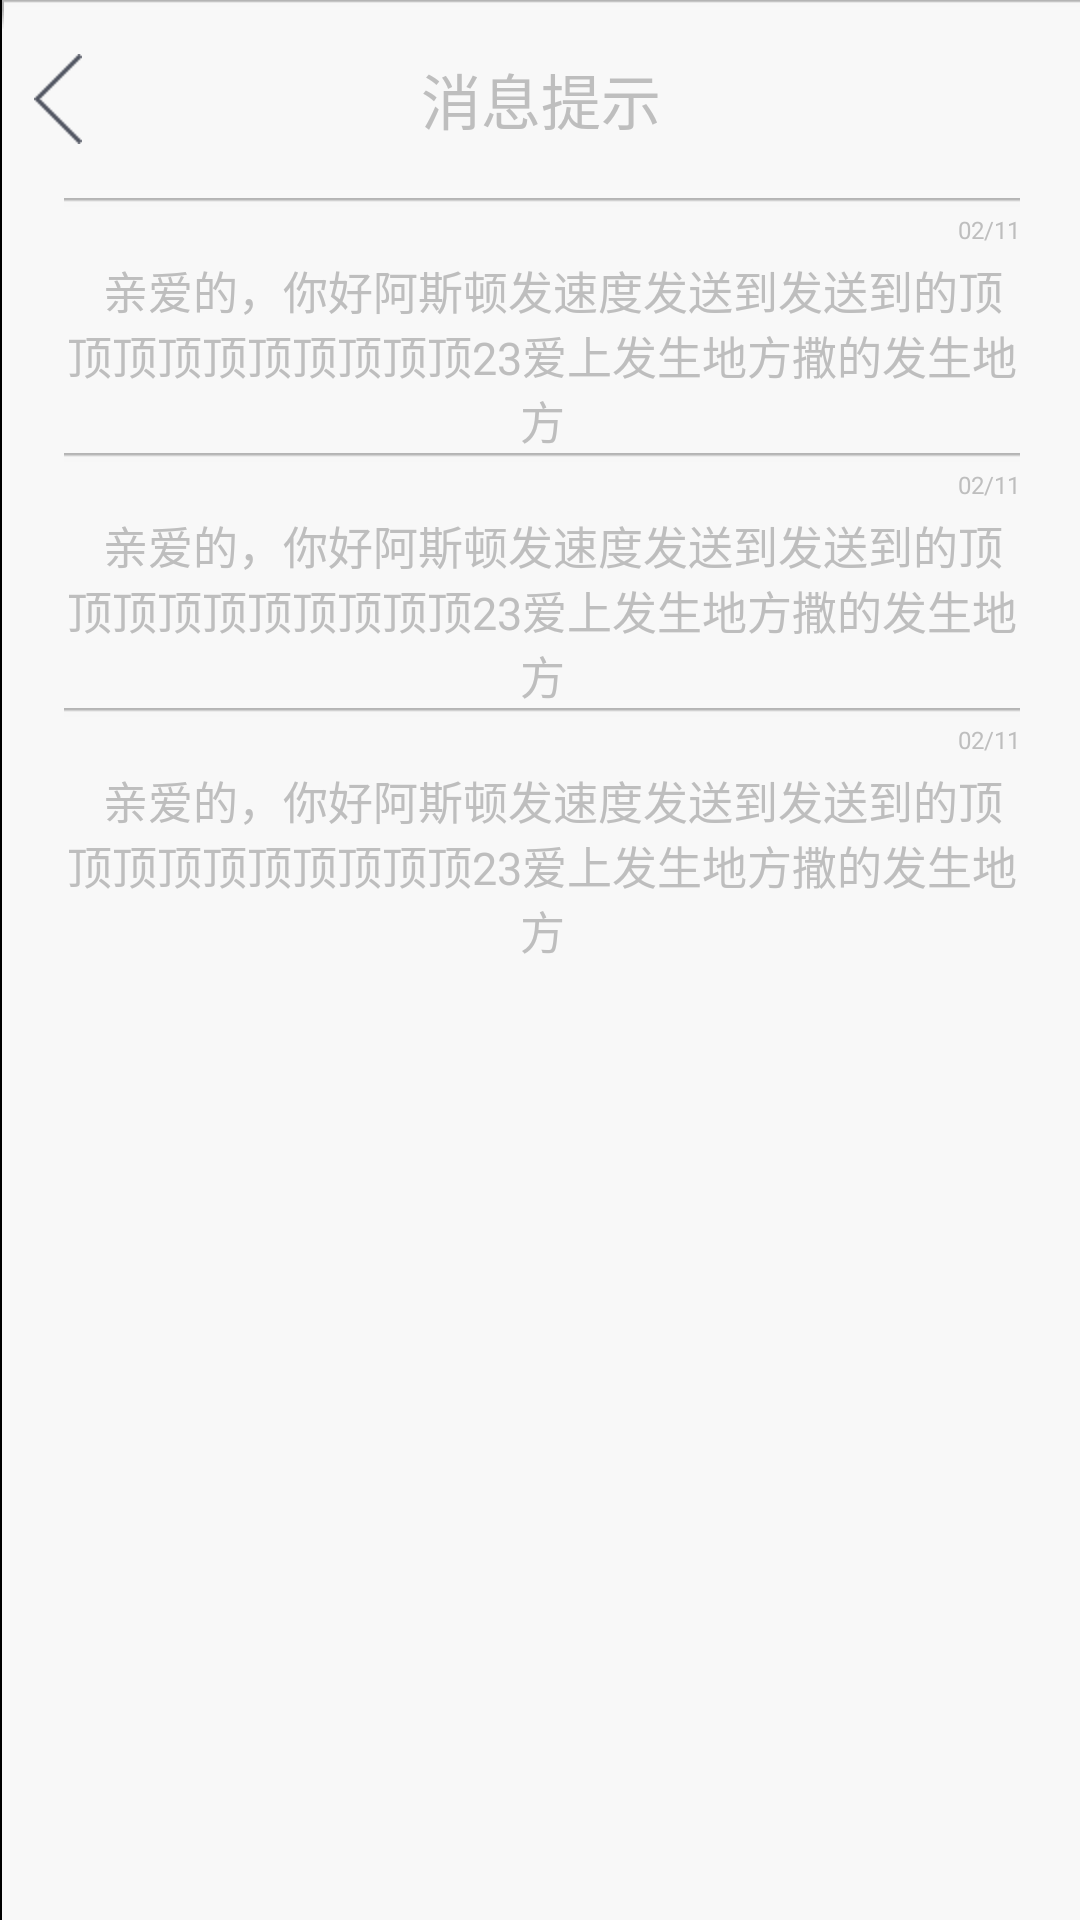

Icon click points for this 1080 × 1920 phone screenshot, format [x,y]:
back: [58,99]
